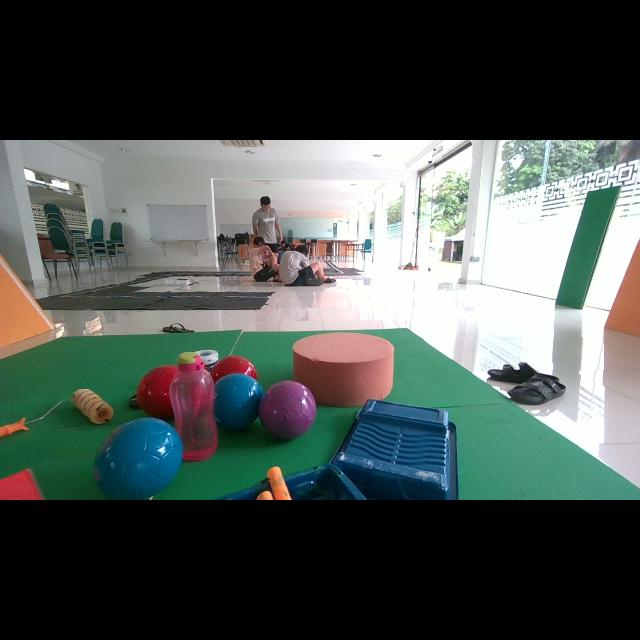B: (94, 418, 182, 498), (215, 372, 264, 429)
P: (259, 380, 316, 439)
R: (136, 365, 178, 420), (211, 355, 258, 382)
